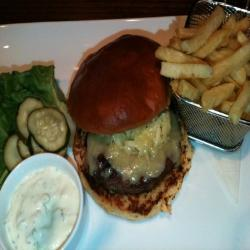burger: (64, 34, 203, 228)
fries: (162, 11, 250, 142)
salad: (1, 63, 58, 137)
